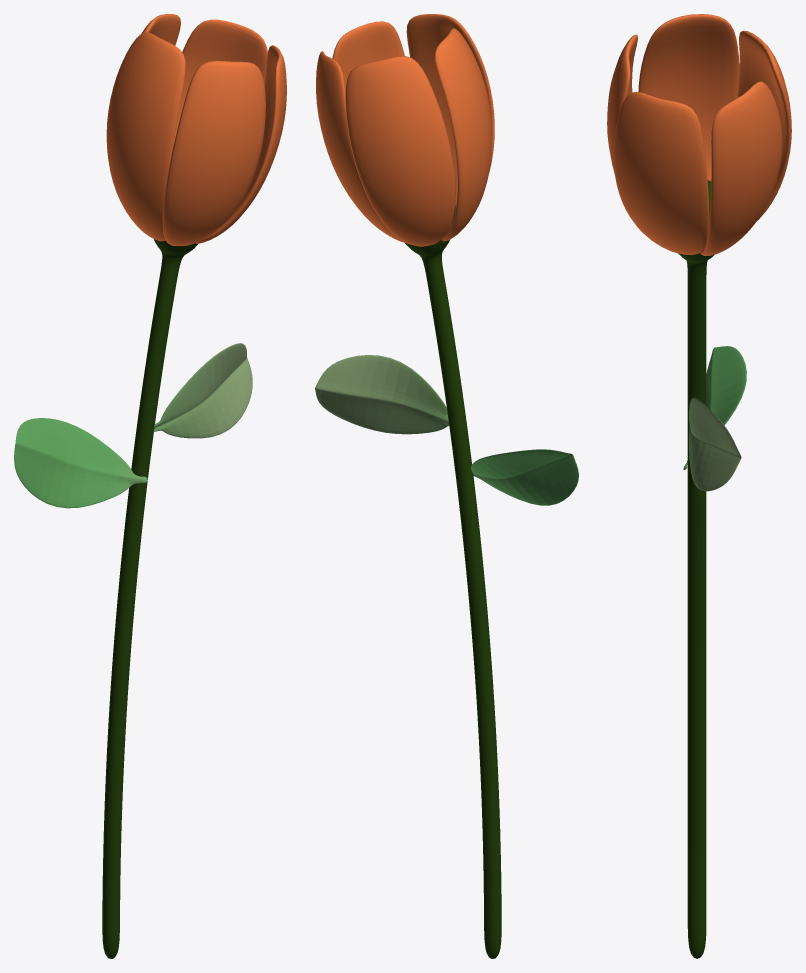
File: flower.fbx
The picture shows the model from 3 angles, left to right: view 1: azimuth 30°, elevation 25°; view 2: azimuth 150°, elevation 25°; view 3: azimuth 270°, elevation 25°; orthographic projection. The views are drawn at different scales.
Parts seen in each view (by area): view 1: 郁金香.007; view 2: 郁金香.007; view 3: 郁金香.007.
Boxes of the visible parts, x1=… form: 郁金香.007: x1=14, y1=14, x2=286, y2=958; 郁金香.007: x1=315, y1=14, x2=578, y2=958; 郁金香.007: x1=607, y1=14, x2=791, y2=958.
Bounding box in the file's own units: 0.3552 × 1.2 × 0.2083.
1 material, 1 textured.
